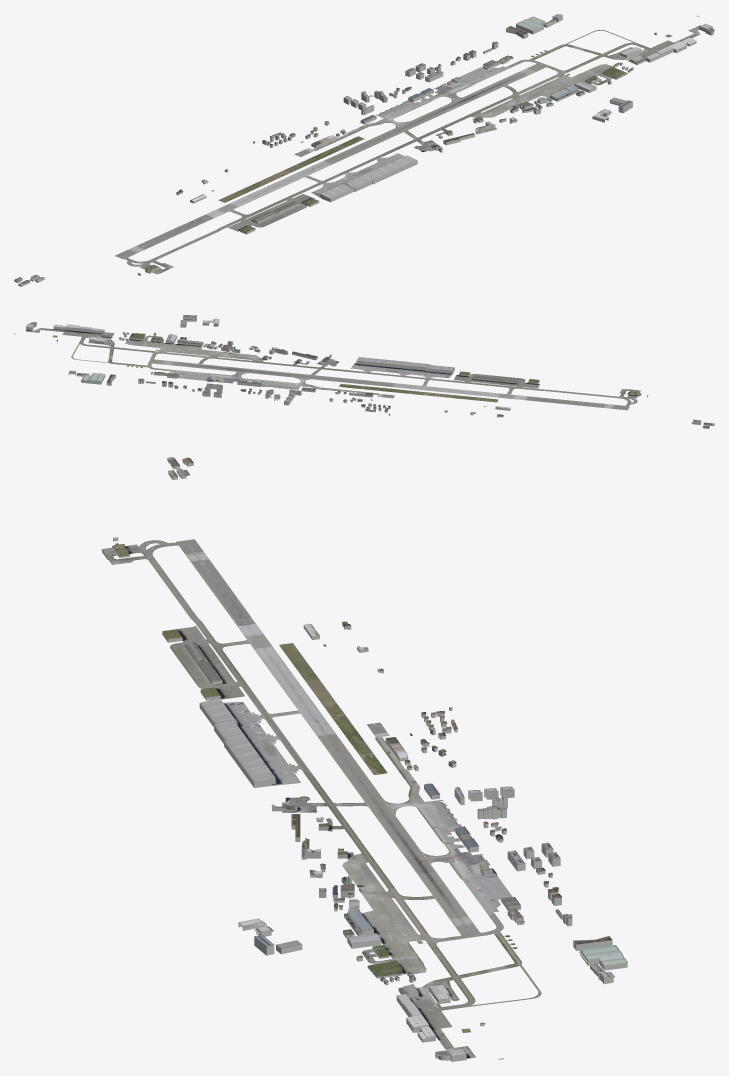
File: LSGS_Airport.glb
3 renders of one model, top to bottom at view 1: azimuth 30°, elevation 25°; view 2: azimuth 150°, elevation 25°; view 3: azimuth 270°, elevation 25°, orthographic. The views are drawn at different scales.
Parts seen in each view (by area): view 1: pavement_LSGS_pavement_5184_2237, pavement_LSGS_pavement_5183_2237, pavement_LSGS_pavement_5182_2237, pavement_LSGS_pavement_5181_2236, pavement_LSGS_pavement_5185_2237, pavement_LSGS_pavement_5182_2236, building_2b2e13a697f9ed34; view 2: pavement_LSGS_pavement_5183_2237, pavement_LSGS_pavement_5184_2237, pavement_LSGS_pavement_5182_2237, pavement_LSGS_pavement_5181_2236, pavement_LSGS_pavement_5185_2237, pavement_LSGS_pavement_5182_2236, building_2b2e13a697f9ed34, pavement_LSGS_pavement_5181_2237, building_ddb764c54e2edca5, pavement_LSGS_pavement_5184_2238, pavement_LSGS_pavement_5180_2236, building_6a61e566081de7df (+2 smaller); view 3: pavement_LSGS_pavement_5184_2237, pavement_LSGS_pavement_5183_2237, pavement_LSGS_pavement_5182_2237, pavement_LSGS_pavement_5181_2236, pavement_LSGS_pavement_5185_2237, pavement_LSGS_pavement_5182_2236, building_2b2e13a697f9ed34.
Part boxes in pixels (box(x1,y1,x2,y2)): pavement_LSGS_pavement_5184_2237: box(451, 48, 611, 116); pavement_LSGS_pavement_5183_2237: box(341, 83, 493, 166); pavement_LSGS_pavement_5182_2237: box(236, 137, 381, 201); pavement_LSGS_pavement_5181_2236: box(132, 209, 275, 271); pavement_LSGS_pavement_5185_2237: box(581, 25, 700, 68); pavement_LSGS_pavement_5182_2236: box(260, 180, 350, 221); building_2b2e13a697f9ed34: box(346, 155, 417, 187); pavement_LSGS_pavement_5183_2237: box(220, 355, 381, 391); pavement_LSGS_pavement_5184_2237: box(110, 335, 253, 381); pavement_LSGS_pavement_5182_2237: box(347, 366, 487, 400); pavement_LSGS_pavement_5181_2236: box(496, 377, 633, 408); pavement_LSGS_pavement_5185_2237: box(25, 328, 132, 356); pavement_LSGS_pavement_5182_2236: box(400, 368, 508, 386); building_2b2e13a697f9ed34: box(357, 357, 427, 367); pavement_LSGS_pavement_5181_2237: box(477, 392, 534, 402); building_ddb764c54e2edca5: box(356, 360, 426, 370); pavement_LSGS_pavement_5184_2238: box(103, 357, 207, 381); pavement_LSGS_pavement_5180_2236: box(608, 390, 640, 410); building_6a61e566081de7df: box(65, 327, 113, 342); pavement_LSGS_pavement_5184_2237: box(343, 866, 496, 970); pavement_LSGS_pavement_5183_2237: box(265, 763, 490, 866); pavement_LSGS_pavement_5182_2237: box(250, 659, 400, 762); pavement_LSGS_pavement_5181_2236: box(105, 555, 250, 659); pavement_LSGS_pavement_5185_2237: box(402, 970, 496, 1058); pavement_LSGS_pavement_5182_2236: box(178, 659, 250, 742); building_2b2e13a697f9ed34: box(214, 720, 274, 782).
Bounding box in the file's own units: 2903 × 28.26 × 1071.
Materials: 3 (2 with a texture image).
